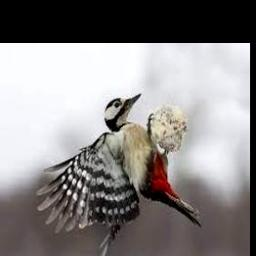Woodpecker: (36, 93, 202, 256)
